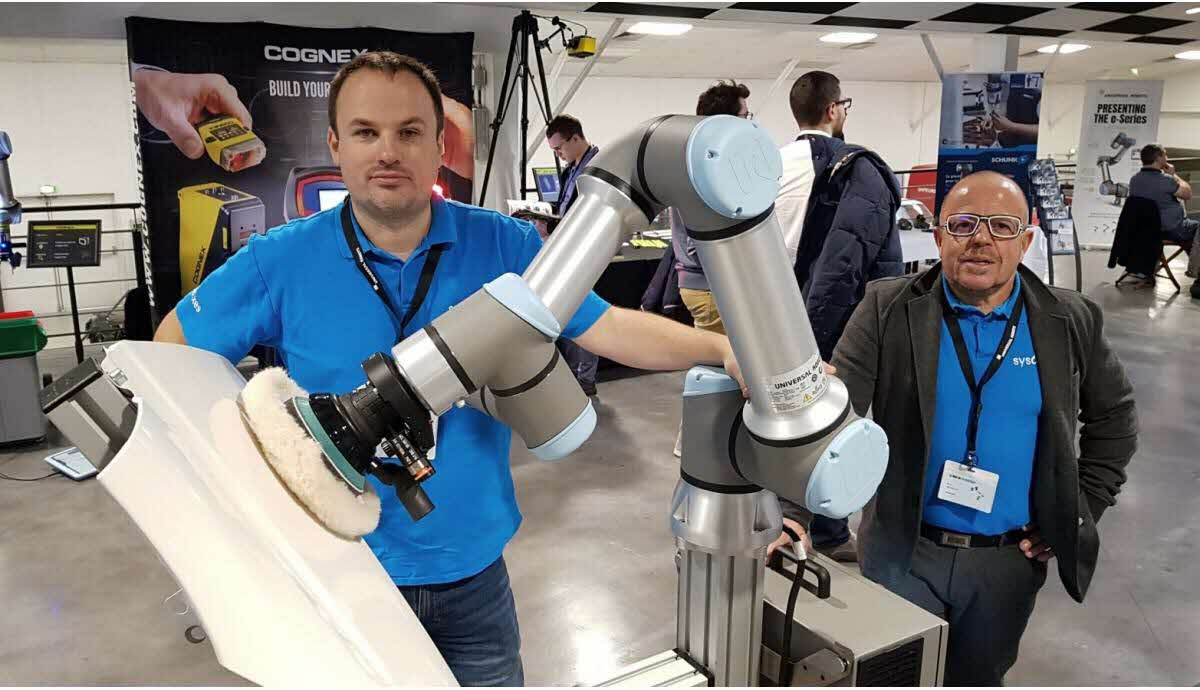person: (150, 50, 834, 690), (827, 170, 1144, 690), (763, 73, 905, 382), (665, 80, 778, 385), (504, 118, 610, 413), (1124, 144, 1200, 300)
robot: (233, 115, 890, 690)
